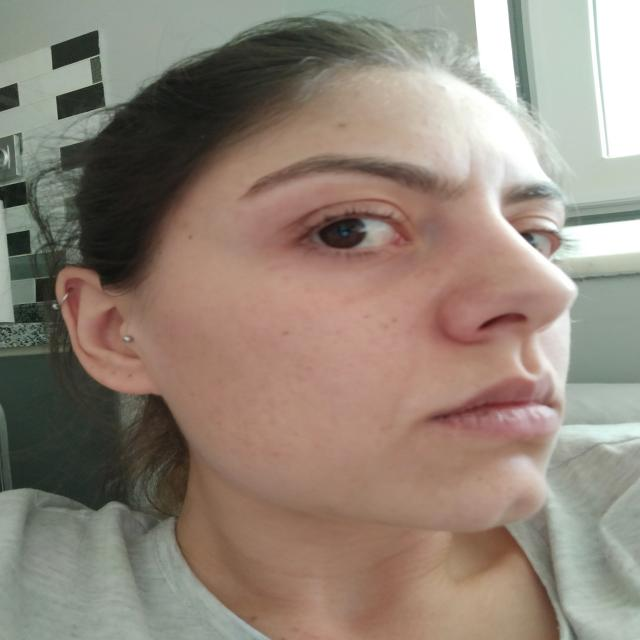Acne: (335, 117, 352, 131), (438, 80, 452, 94)
Englarged-Pores: (232, 388, 284, 457)
Wrinkles: (378, 371, 415, 440), (461, 136, 478, 190), (495, 149, 511, 188)
